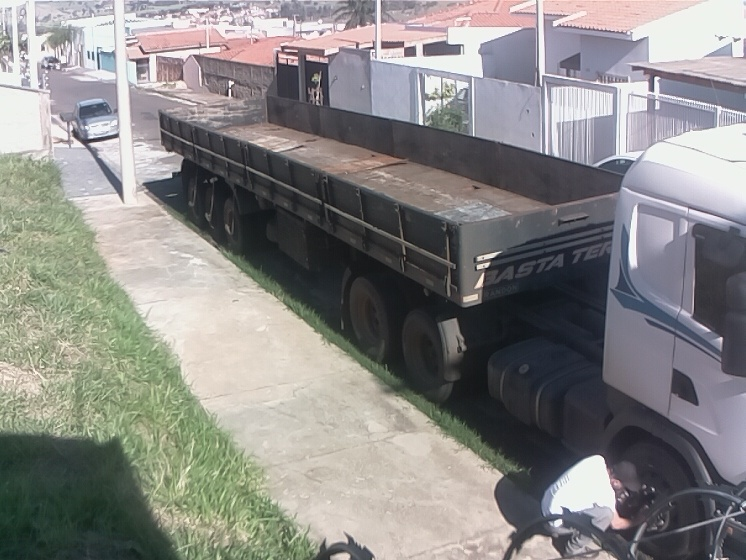person: (539, 450, 649, 560)
